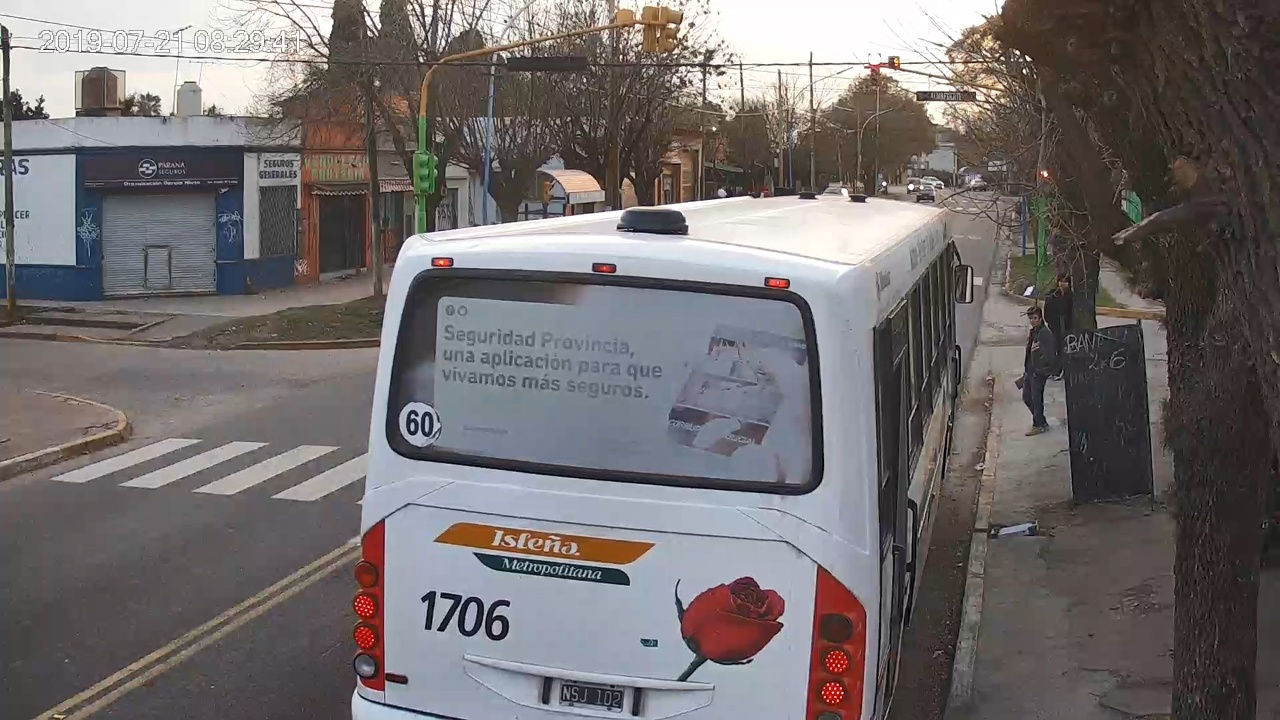bus: (350, 191, 974, 720)
traffic light: (868, 54, 881, 84)
